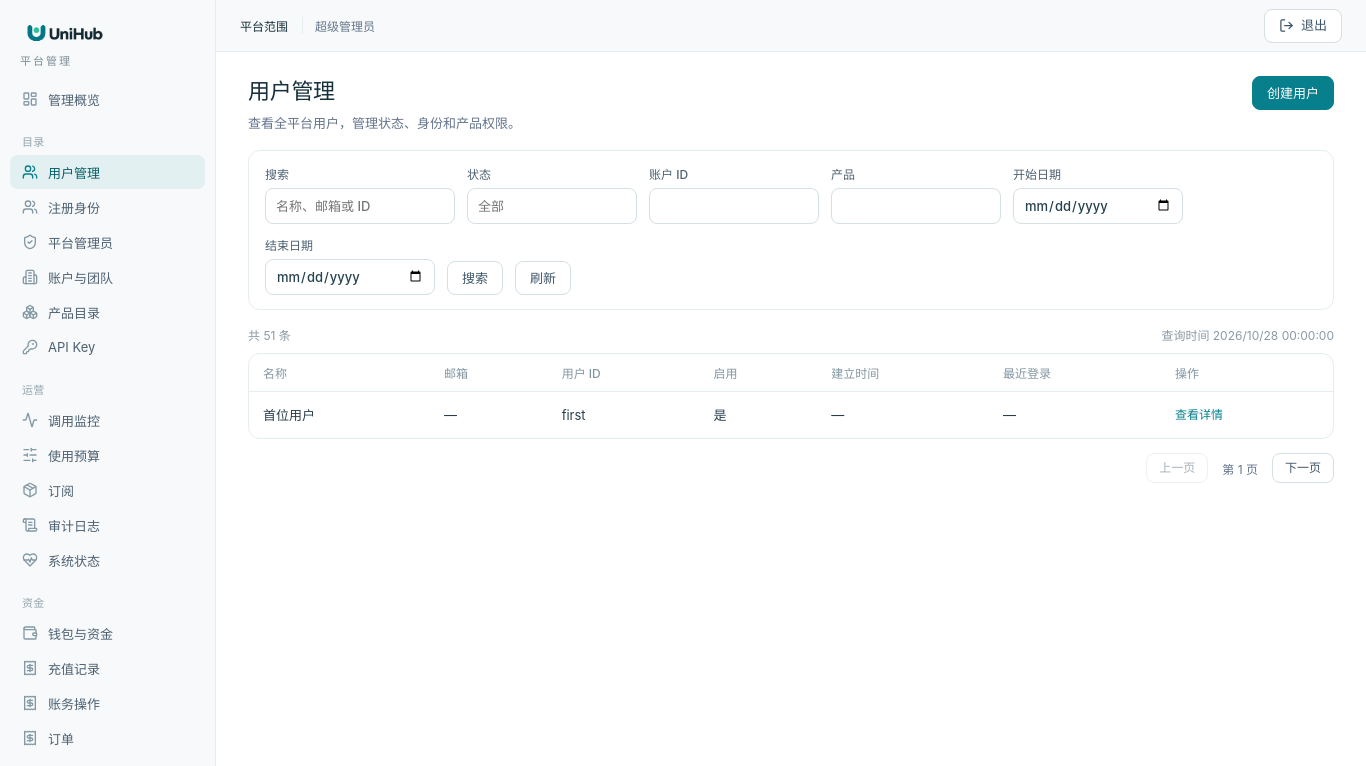
全量用户有分页并保留当前筛选
Check: the text "首位用户" is shown, box [249,391,430,438]
Check: the text "共 51 条" is shown, box [248,326,291,343]
Click the button "下一页" at (1303, 468), box [1272,453,1334,483]
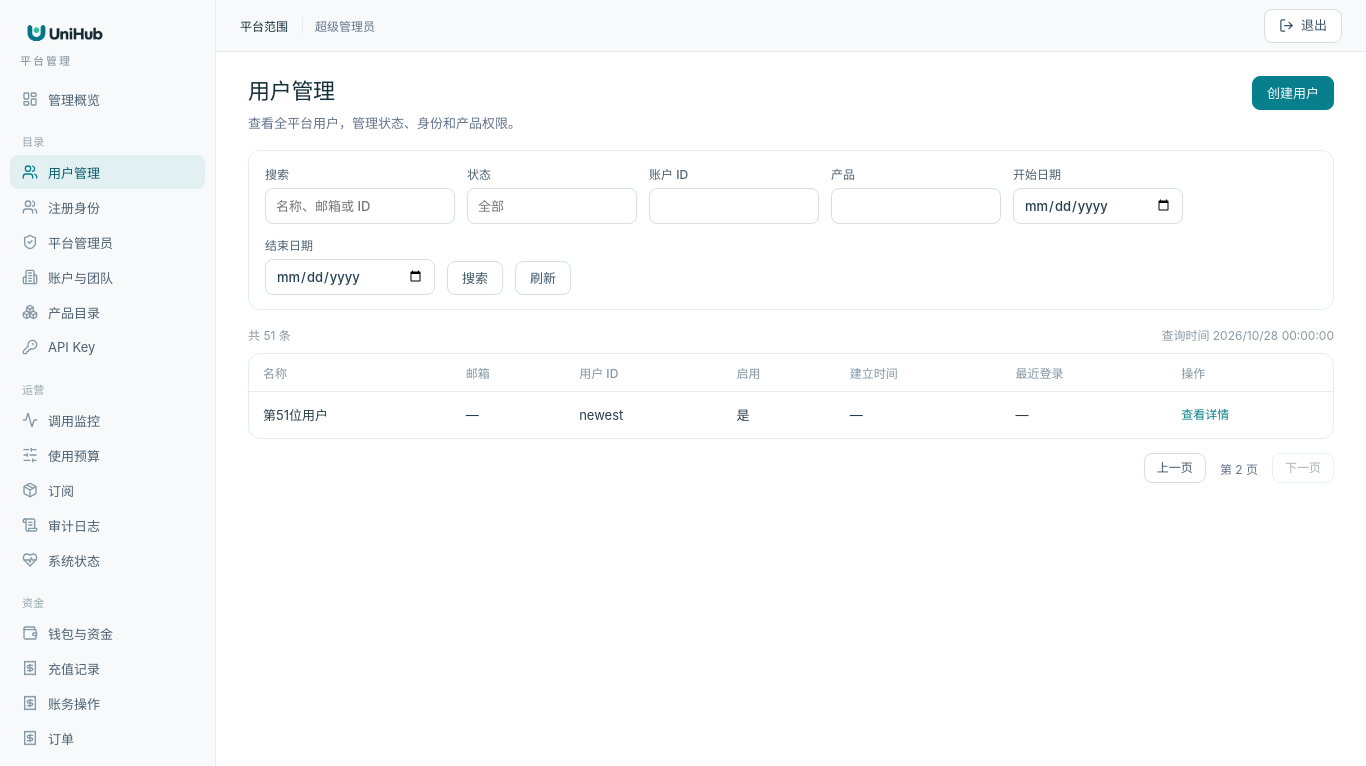
Check: the text "第51位用户" is shown, box [249,391,452,438]
